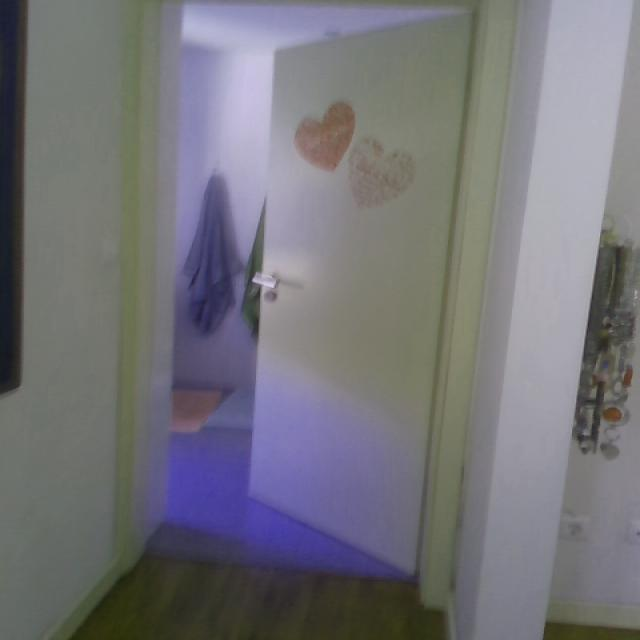door: (245, 9, 474, 577)
